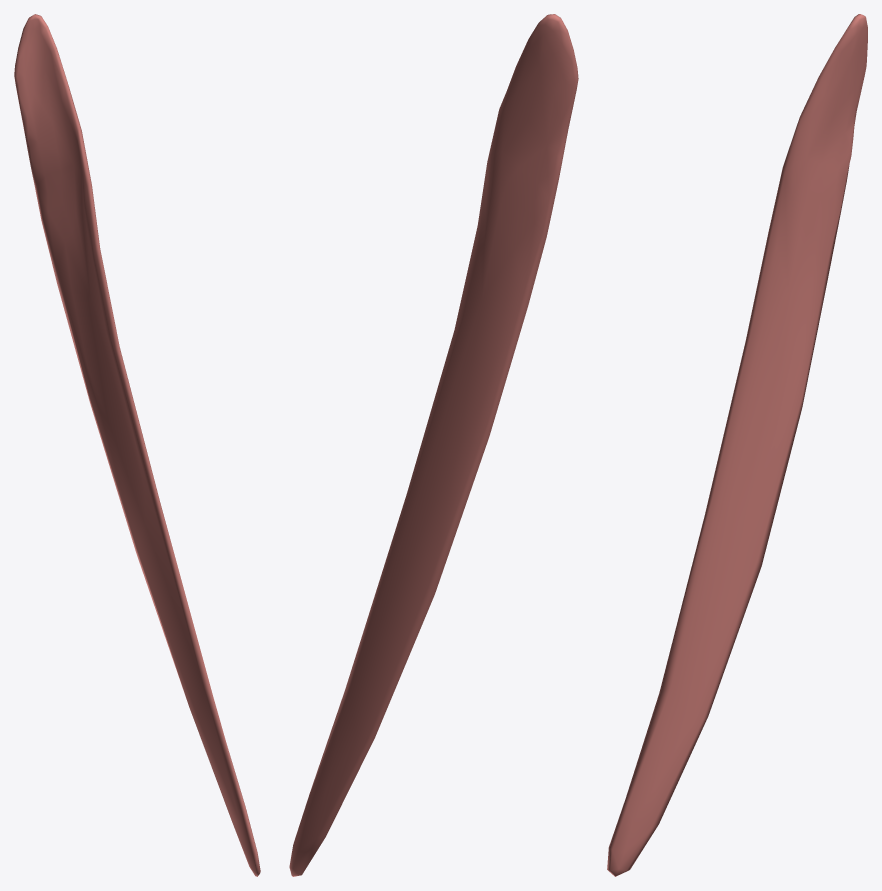
The picture shows the model from 3 angles, left to right: view 1: azimuth 30°, elevation 25°; view 2: azimuth 210°, elevation 25°; view 3: azimuth 270°, elevation 25°; orthographic projection. The views are drawn at different scales.
Parts seen in each view (by area): view 1: ZA_84522b083d37573d; view 2: ZA_84522b083d37573d; view 3: ZA_84522b083d37573d.
Part boxes in pixels (x1,y1,x2,y2): ZA_84522b083d37573d: (14, 14, 260, 876); ZA_84522b083d37573d: (289, 14, 578, 876); ZA_84522b083d37573d: (607, 14, 867, 876).
Size of the model in its own units: 0.00905 by 0.0561 by 0.0163.
